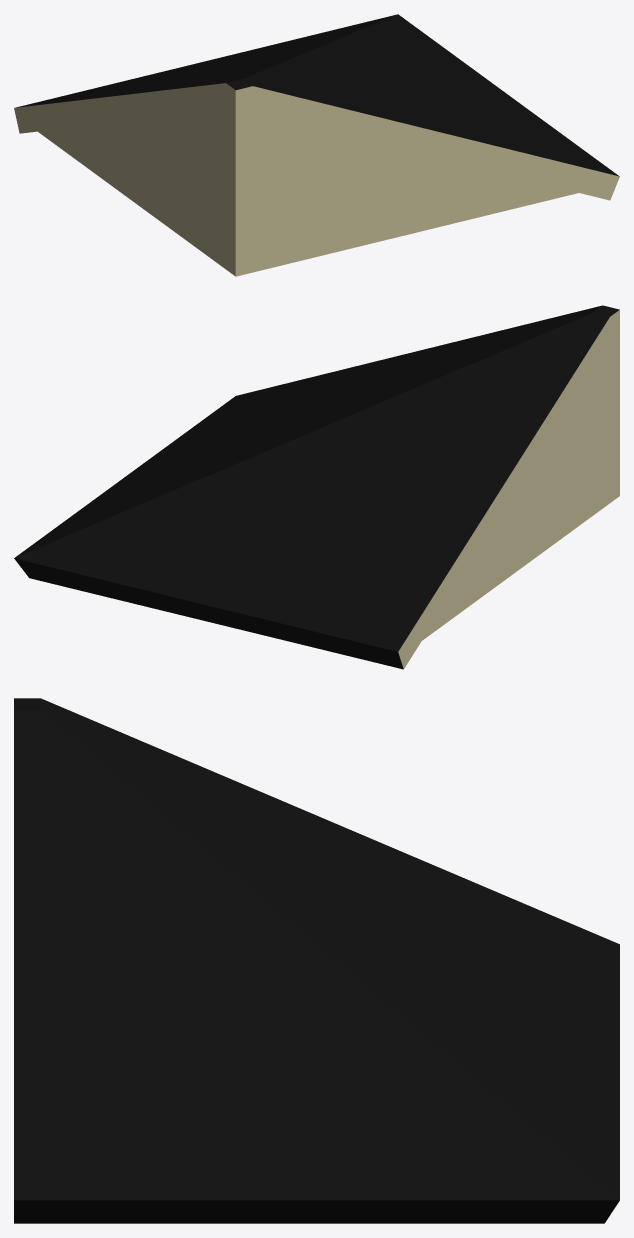
3 renders of one model, top to bottom at view 1: azimuth 30°, elevation 25°; view 2: azimuth 150°, elevation 25°; view 3: azimuth 270°, elevation 25°, orthographic. The views are drawn at different scales.
Visible parts, largest first — view 1: G-__555843_G-__555843_Brick, G-__555843_G-__555843_Roof; view 2: G-__555843_G-__555843_Roof, G-__555843_G-__555843_Brick; view 3: G-__555843_G-__555843_Roof.
Part boxes in pixels (x1,y1,x2,y2): G-__555843_G-__555843_Brick: (14, 83, 619, 276); G-__555843_G-__555843_Roof: (16, 14, 619, 176); G-__555843_G-__555843_Roof: (14, 305, 619, 669); G-__555843_G-__555843_Brick: (398, 310, 619, 668); G-__555843_G-__555843_Roof: (14, 698, 619, 1223).
Bounding box in the file's own units: 1.12 × 0.5612 × 1.12.
